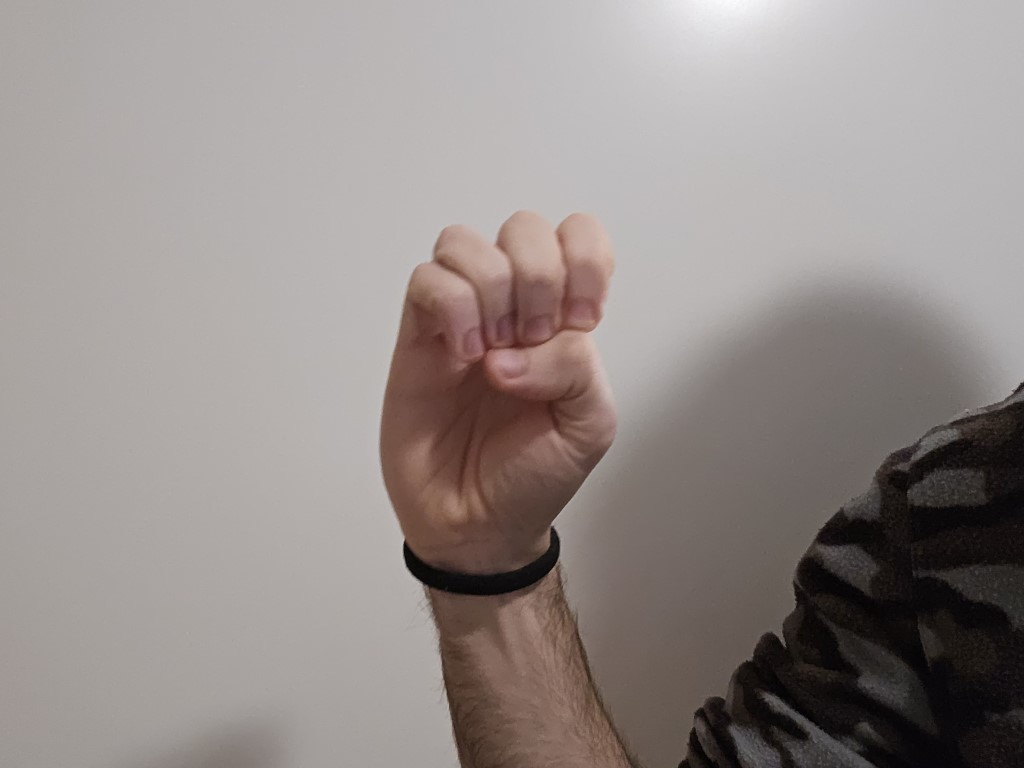e: (351, 201, 643, 561)
